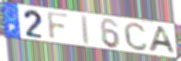2: (22, 8, 47, 42)
6: (99, 17, 121, 50)
A: (147, 25, 178, 55)
C: (123, 21, 150, 52)
F: (46, 11, 71, 42)
I: (81, 14, 91, 47)
